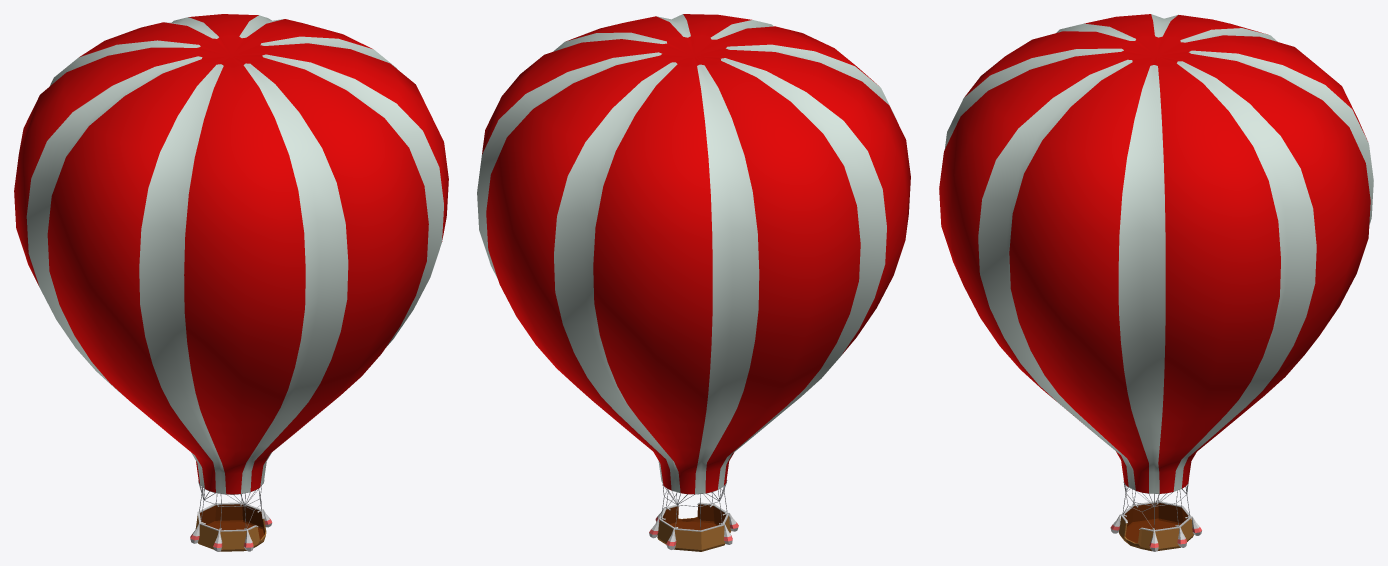
The model's file is balloon.glb.
3 views of the same model, side by side, from view 1: azimuth 30°, elevation 25°; view 2: azimuth 150°, elevation 25°; view 3: azimuth 270°, elevation 25° (orthographic).
Parts seen in each view (by area): view 1: Cube.079; view 2: Cube.079; view 3: Cube.079.
Part boxes in pixels (box(x1,y1,x2,y2)): Cube.079: box(14, 14, 448, 551); Cube.079: box(477, 14, 910, 551); Cube.079: box(939, 14, 1373, 551).
Size of what is drawn, in the model's own units: 22.94 by 28.26 by 22.94.
3 materials, 3 textured.
